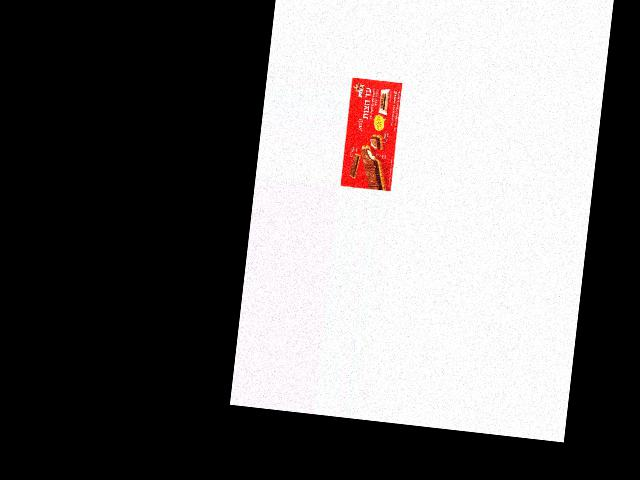chocolate: (339, 75, 403, 192)
